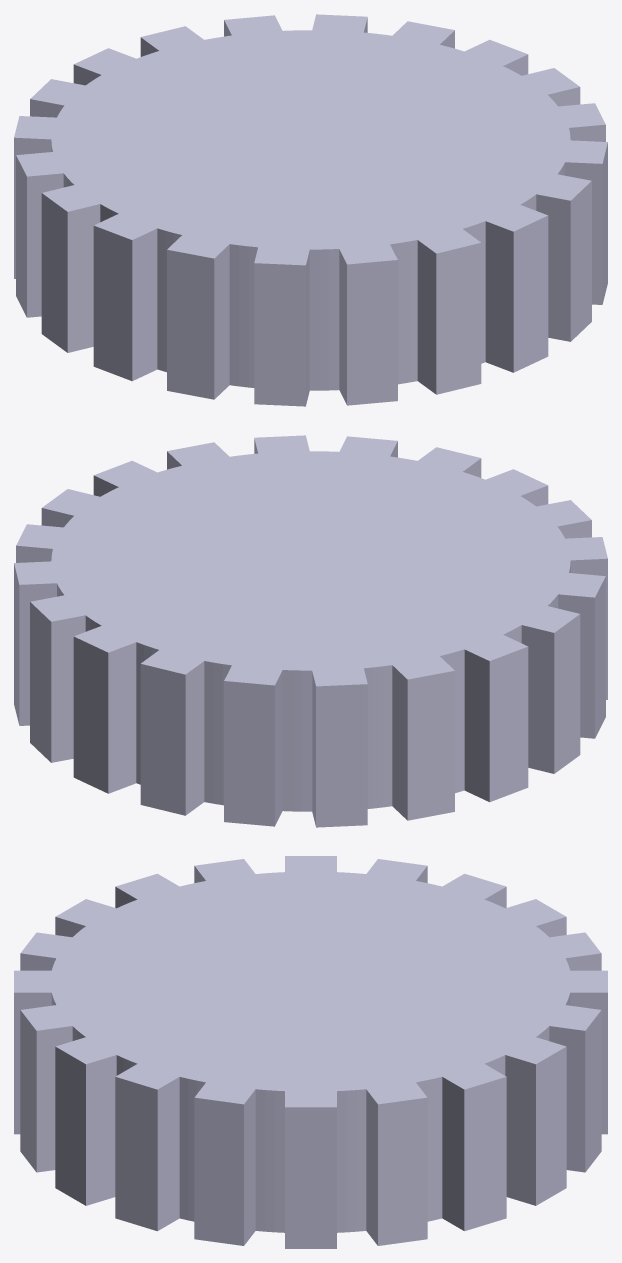
Rendered from first_robot_Body.dae.
3 views of the same model, one above another, from view 1: azimuth 30°, elevation 25°; view 2: azimuth 150°, elevation 25°; view 3: azimuth 270°, elevation 25° (orthographic).
Parts seen in each view (by area): view 1: node0; view 2: node0; view 3: node0.
Part boxes in pixels (x1,y1,x2,y2): node0: (14, 14, 607, 406); node0: (14, 435, 607, 827); node0: (14, 856, 607, 1248).
Size of the model in its own units: 0.114 by 0.114 by 0.03.
